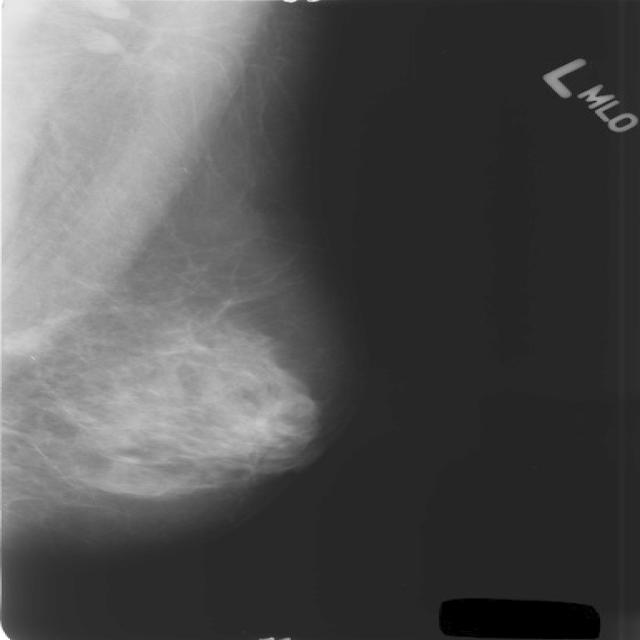tumour: (1, 325, 46, 357)
